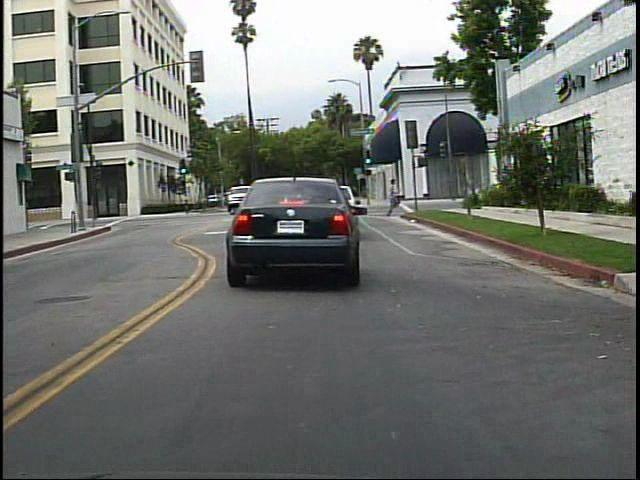person: (377, 175, 403, 220)
